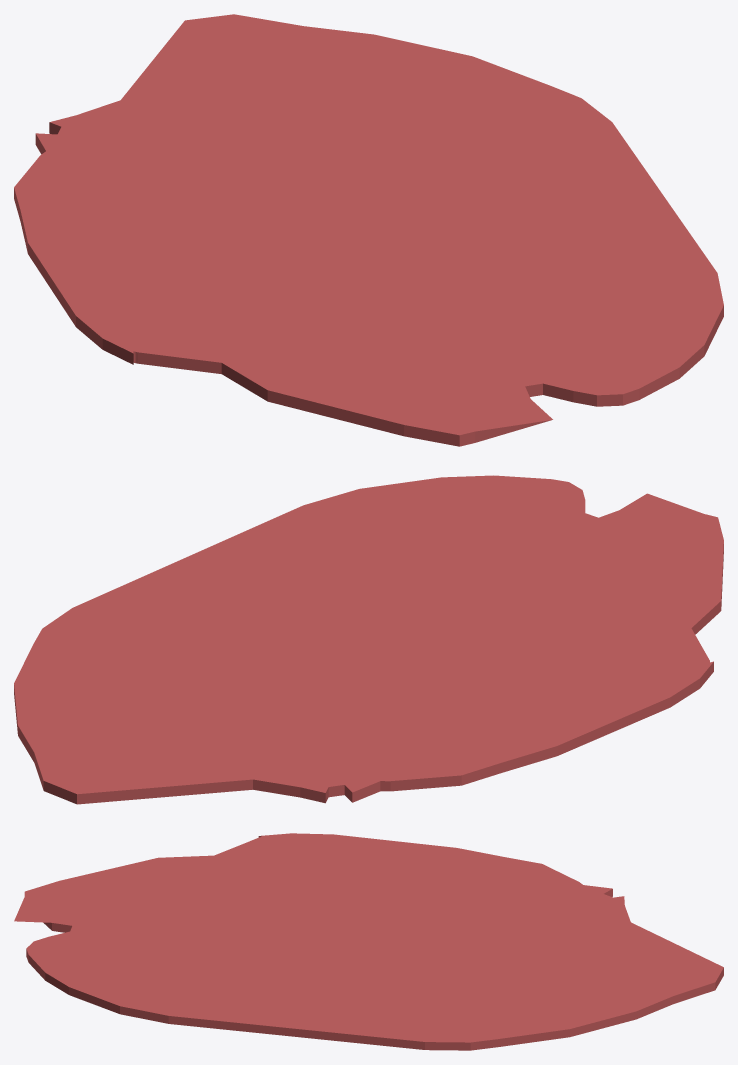
Rendered from Coral_Disc_02.fbx.
3 renders of one model, top to bottom at view 1: azimuth 30°, elevation 25°; view 2: azimuth 150°, elevation 25°; view 3: azimuth 270°, elevation 25°, orthographic. The views are drawn at different scales.
Parts seen in each view (by area): view 1: Model; view 2: Model; view 3: Model.
Boxes of the visible parts, left/top/right/bottom form: Model: left=14, top=14, right=723, bottom=446; Model: left=14, top=475, right=723, bottom=804; Model: left=14, top=833, right=723, bottom=1050.
Size of the model in its own units: 185 by 3.34 by 266.
